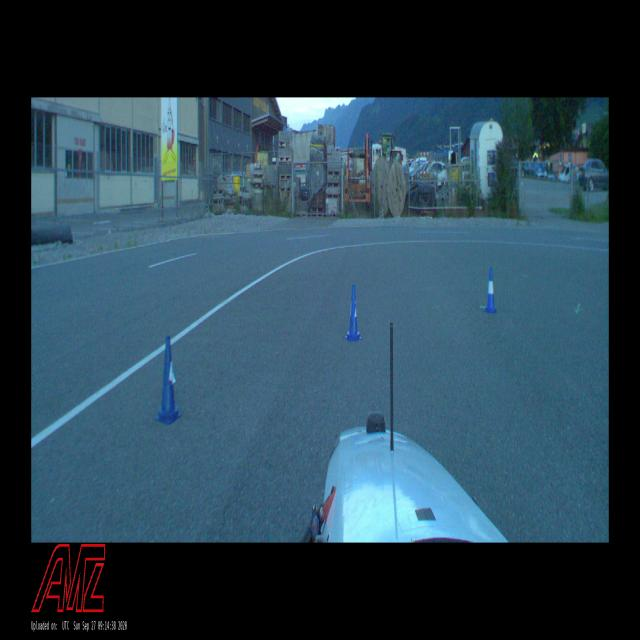blue_cone: (155, 336, 182, 424), (345, 285, 361, 341), (486, 268, 496, 313)
